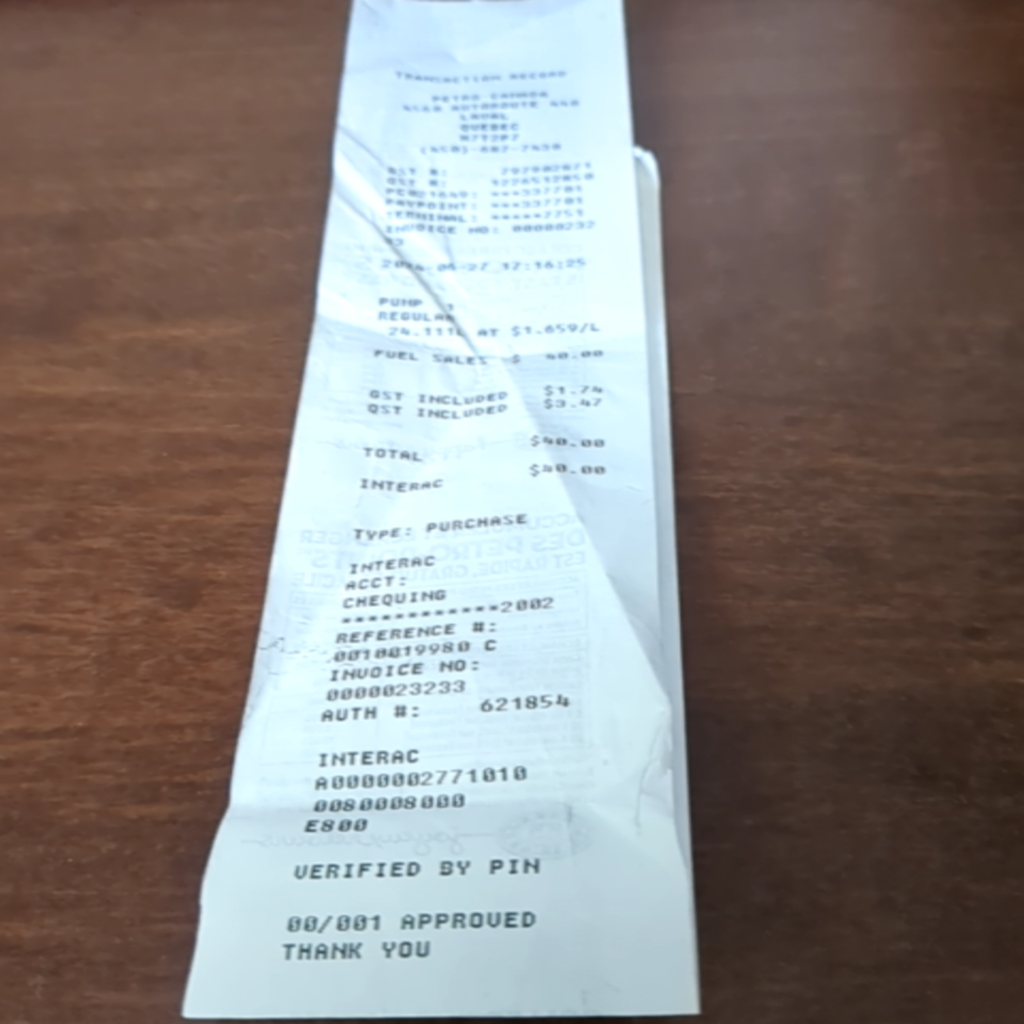recipt: (180, 0, 701, 1018)
